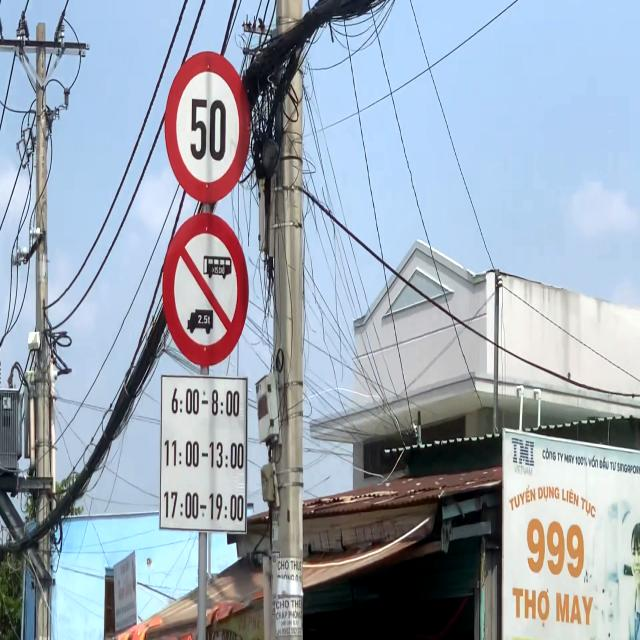P.127: (163, 51, 252, 203)
